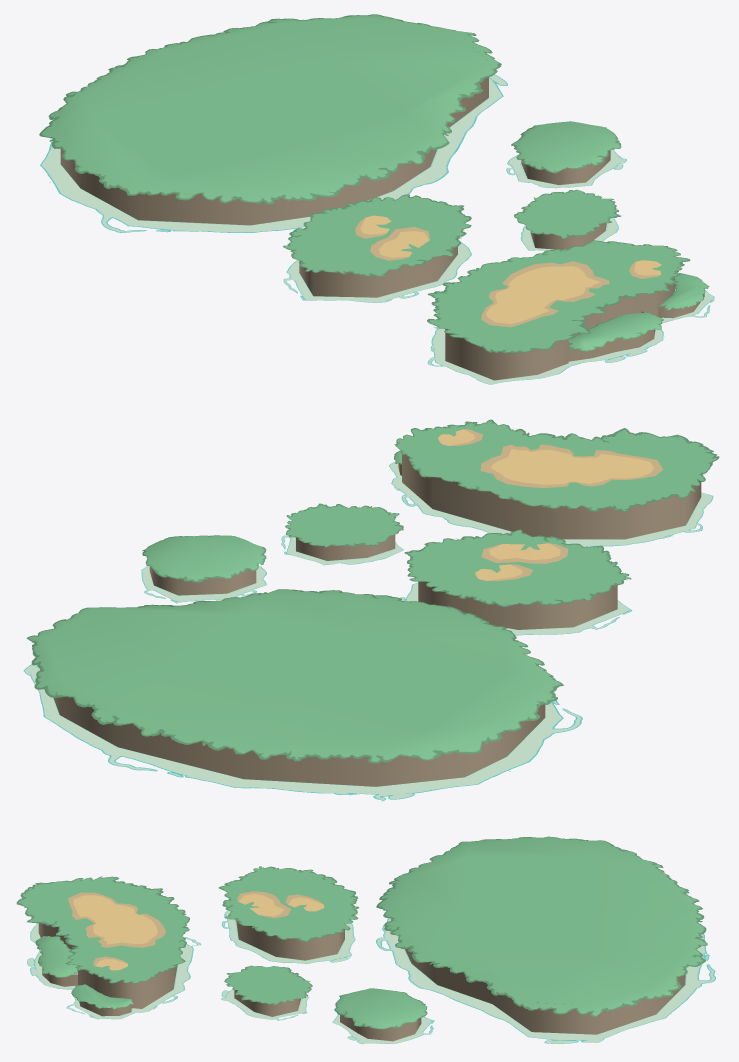
File: Mesh_Home_RF_Gound_09_SM.fbx
The picture shows the model from 3 angles, top to bottom: view 1: azimuth 30°, elevation 25°; view 2: azimuth 150°, elevation 25°; view 3: azimuth 270°, elevation 25°; orthographic projection. The views are drawn at different scales.
Parts seen in each view (by area): view 1: Mesh_Home_RF_Gound_09; view 2: Mesh_Home_RF_Gound_09; view 3: Mesh_Home_RF_Gound_09.
Part boxes in pixels (box(x1,y1,x2,y2)): Mesh_Home_RF_Gound_09: box(39, 14, 714, 384); Mesh_Home_RF_Gound_09: box(23, 419, 719, 801); Mesh_Home_RF_Gound_09: box(16, 836, 715, 1044).
Bounding box in the file's own units: 366 × 27.16 × 554.
1 material, 1 textured.
